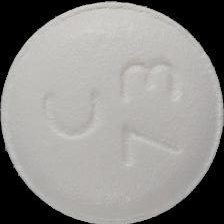54868-5021: (0, 0, 224, 224)
